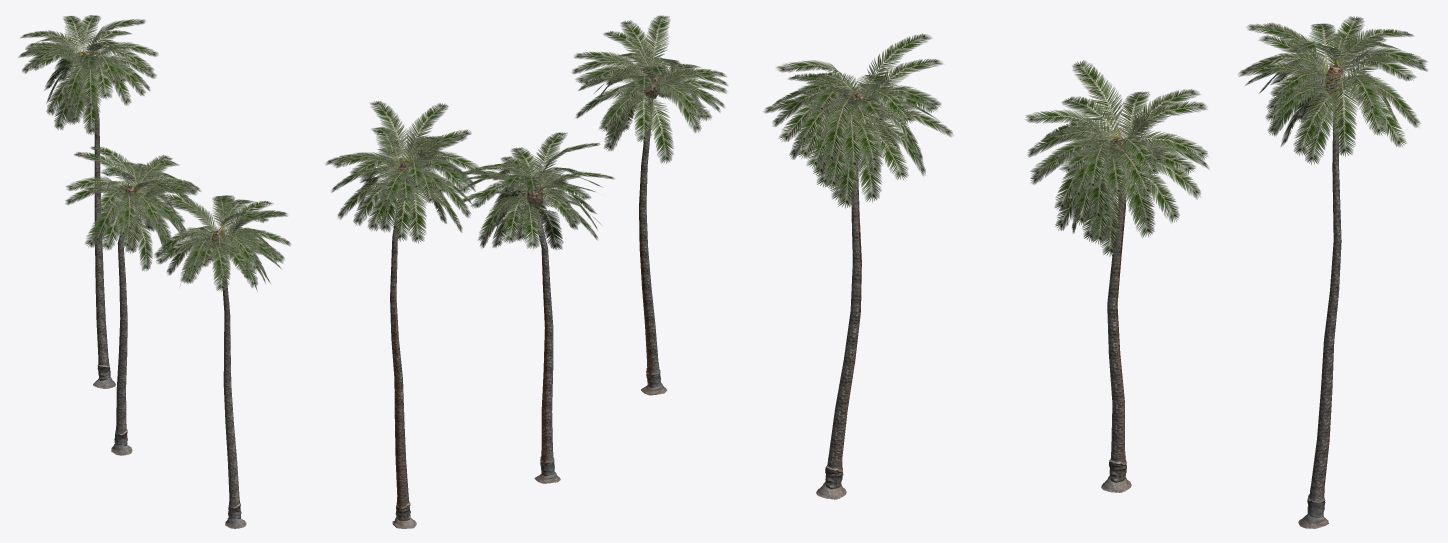
The model's file is palm-pack.glb.
3 renders of one model, left to right at view 1: azimuth 30°, elevation 25°; view 2: azimuth 150°, elevation 25°; view 3: azimuth 270°, elevation 25°, orthographic. The views are drawn at different scales.
Parts seen in each view (by area): view 1: PALMLOW3, PALMLOW2, PALMLOW; view 2: PALMLOW3, PALMLOW, PALMLOW2; view 3: PALMLOW2, PALMLOW3, PALMLOW.
Part boxes in pixels (x1=…): PALMLOW3: x1=18, y1=15, x2=158, y2=388; PALMLOW2: x1=65, y1=145, x2=200, y2=455; PALMLOW: x1=154, y1=193, x2=291, y2=528; PALMLOW3: x1=325, y1=101, x2=482, y2=528; PALMLOW: x1=571, y1=15, x2=728, y2=395; PALMLOW2: x1=457, y1=132, x2=614, y2=483; PALMLOW2: x1=1025, y1=60, x2=1209, y2=492; PALMLOW3: x1=1238, y1=16, x2=1427, y2=528; PALMLOW: x1=763, y1=33, x2=953, y2=499.
Bounding box in the file's own units: 5.22 × 11.08 × 13.68.
3 materials, 3 textured.
